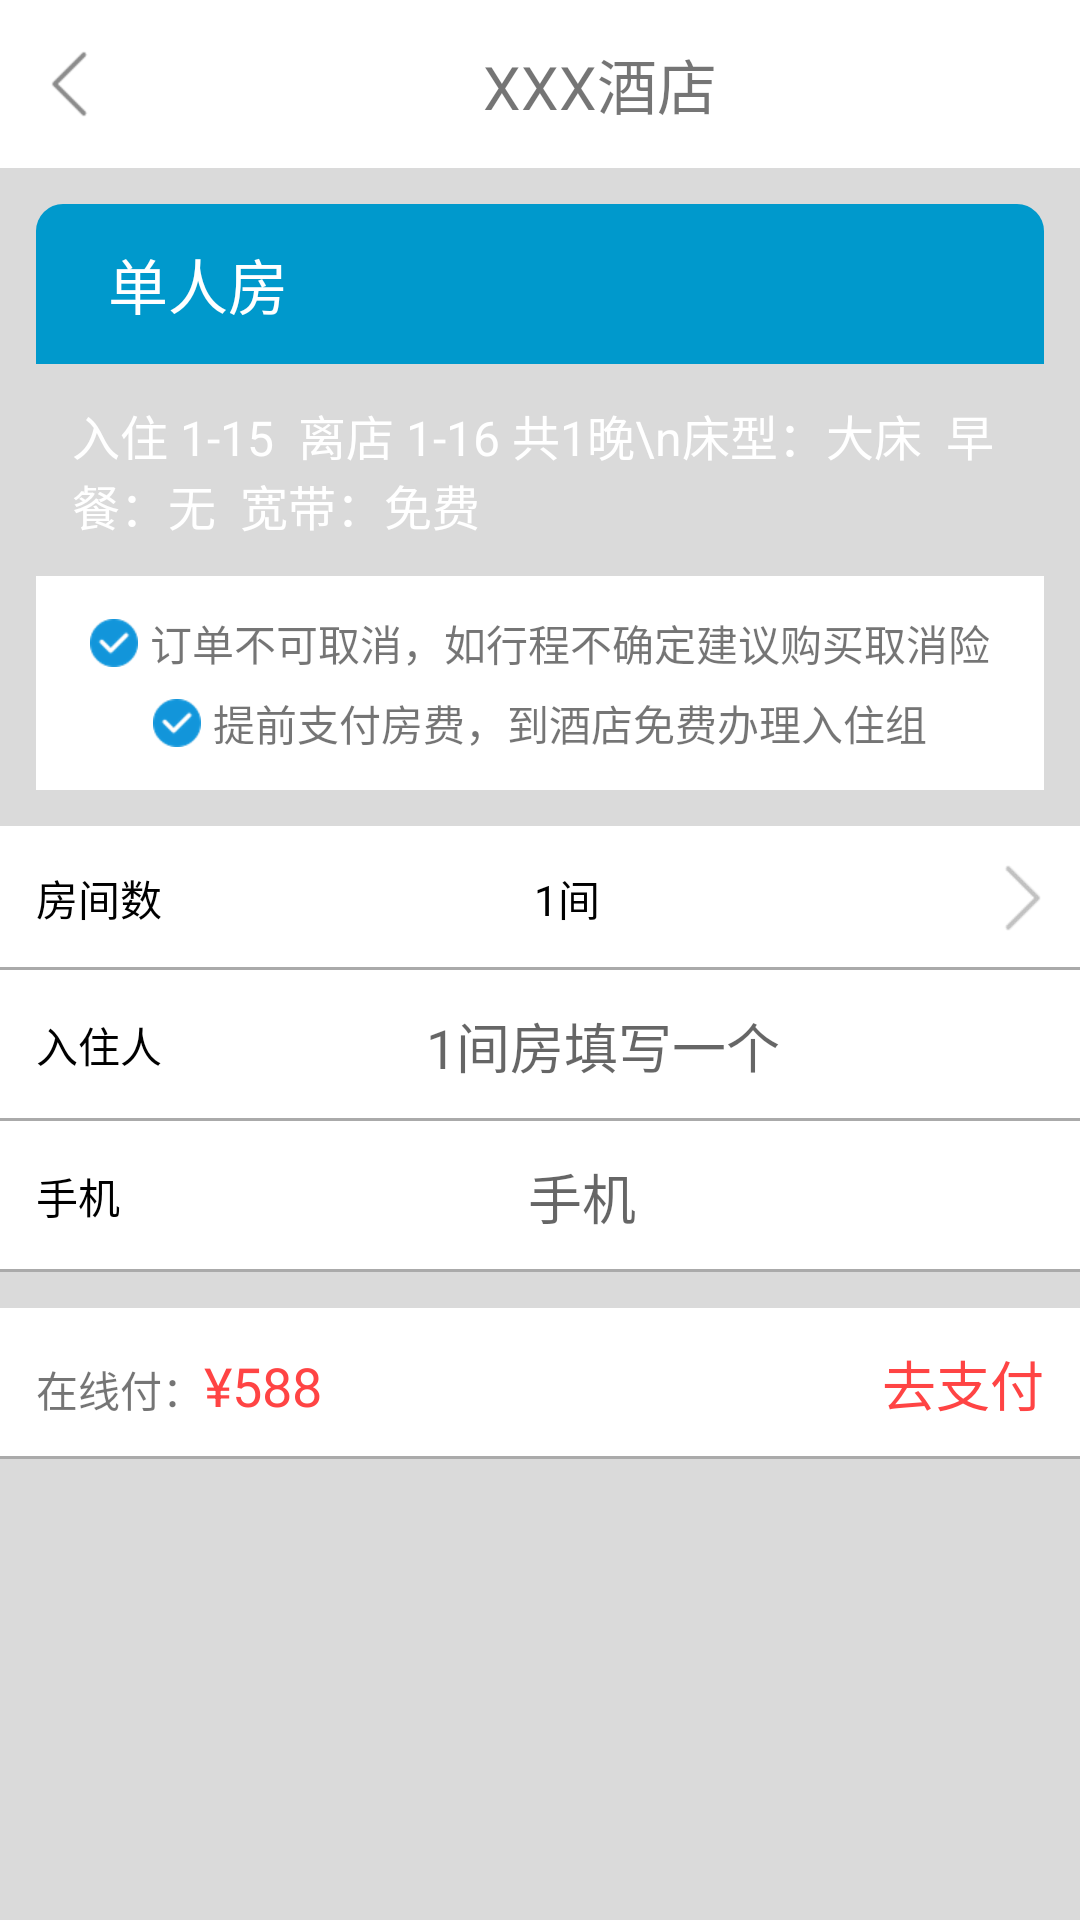

Icon bounding boxes for this 1080px x 1920px phone screenshot, format {"x1": x1, "y1": y1, "x2": x2, "y2": y2}:
arrow back: {"x1": 52, "y1": 52, "x2": 87, "y2": 116}
arrow right: {"x1": 1006, "y1": 866, "x2": 1040, "y2": 930}
